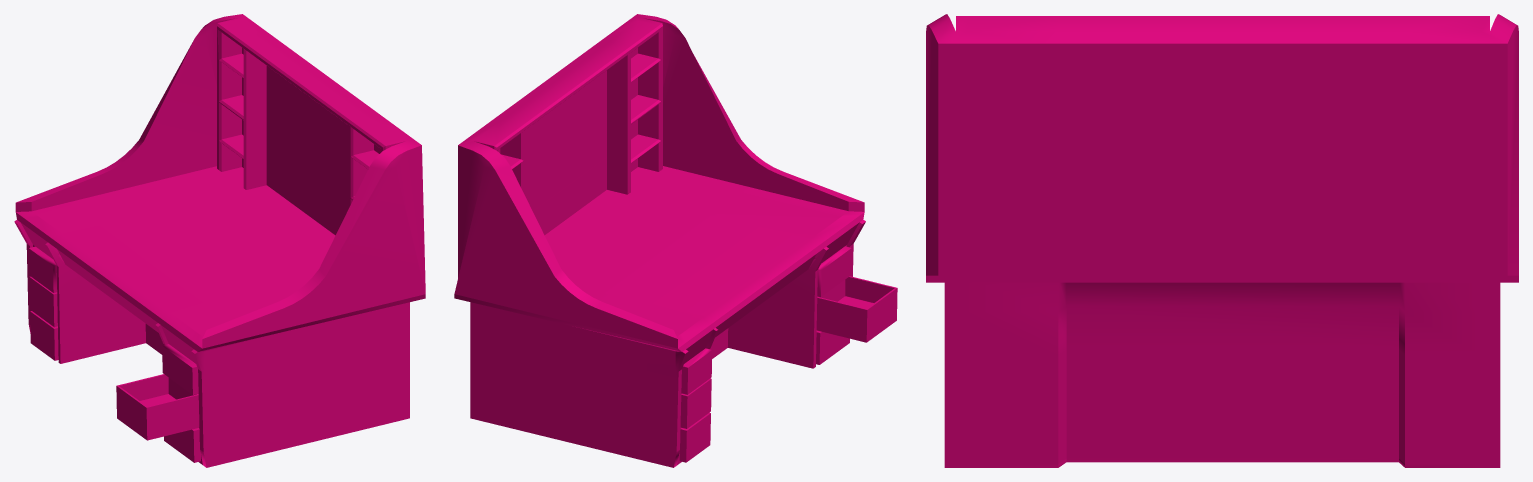
File: desk.fbx
3 renders of one model, left to right at view 1: azimuth 30°, elevation 25°; view 2: azimuth 150°, elevation 25°; view 3: azimuth 270°, elevation 25°, orthographic. The views are drawn at different scales.
Parts seen in each view (by area): view 1: desk; view 2: desk; view 3: desk.
Part boxes in pixels (<box>): desk: <box>14,14,425,467</box>; desk: <box>454,14,897,467</box>; desk: <box>926,14,1518,467</box>.
Bounding box in the file's own units: 2.41 × 2.91 × 2.36.
